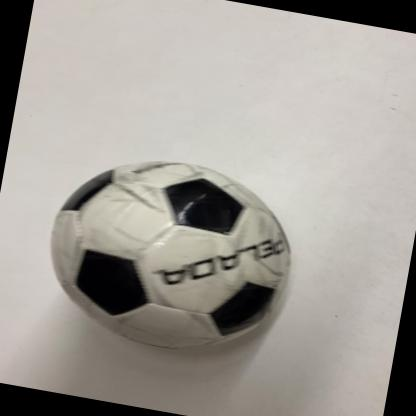ball: (34, 142, 308, 369)
